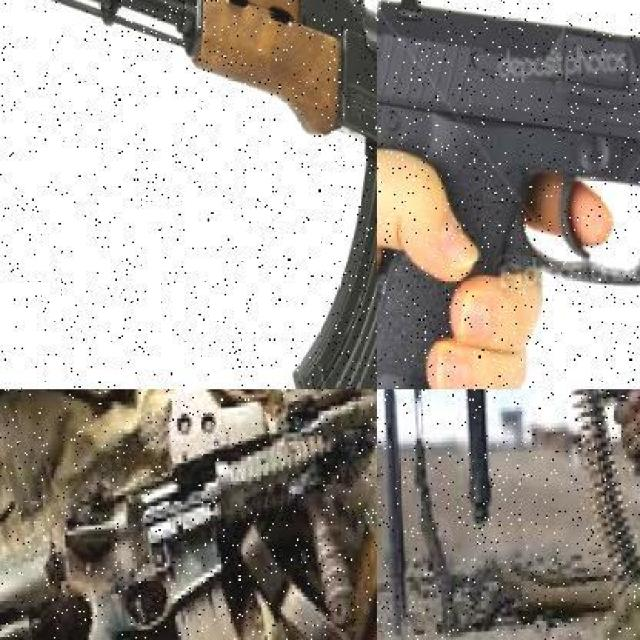weapon: (380, 0, 640, 395), (0, 389, 377, 640)
